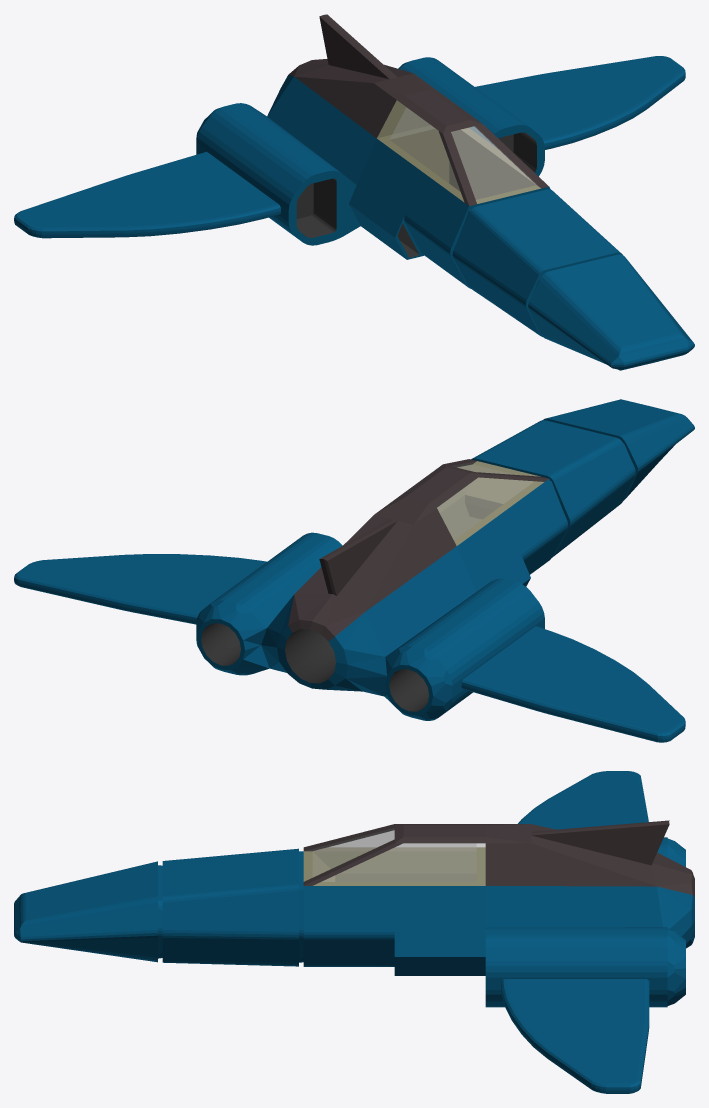
File: ExplorerShip.fbx
The picture shows the model from 3 angles, top to bottom: view 1: azimuth 30°, elevation 25°; view 2: azimuth 150°, elevation 25°; view 3: azimuth 270°, elevation 25°; orthographic projection.
Parts seen in each view (by area): view 1: ExplorerShip; view 2: ExplorerShip; view 3: ExplorerShip.
Boxes of the visible parts, box(x1,y1,x2,y2) form: ExplorerShip: box(14, 14, 694, 370); ExplorerShip: box(14, 399, 694, 742); ExplorerShip: box(14, 771, 694, 1093).
Size of the model in its own units: 820 by 164 by 748.
